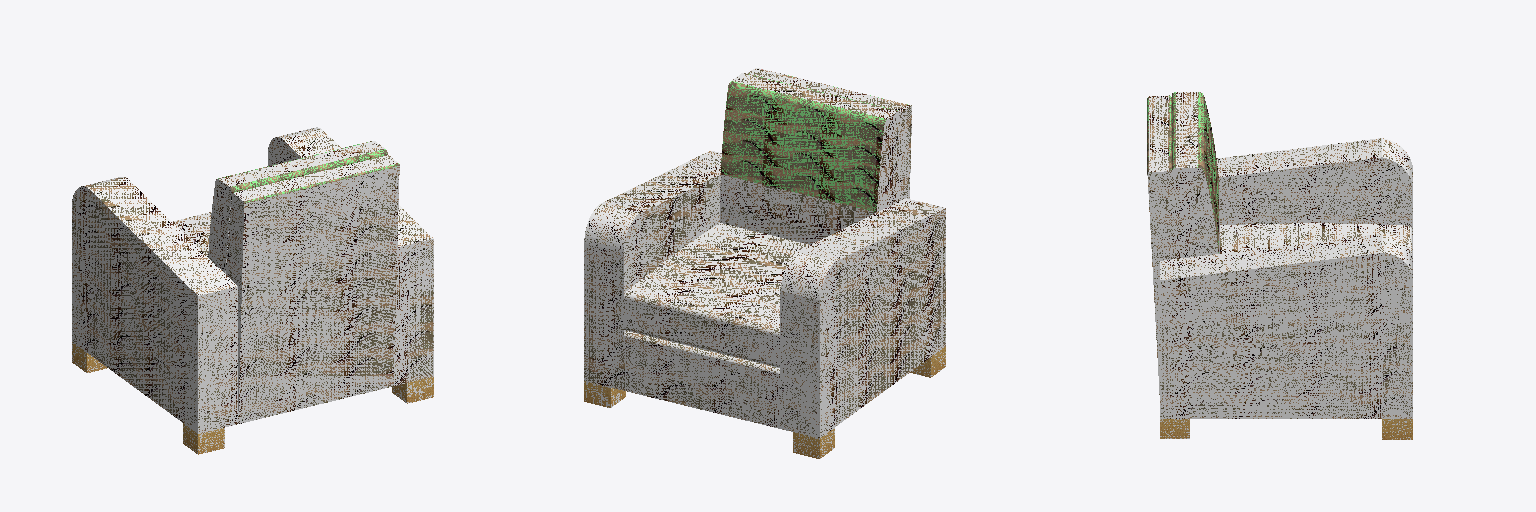
The picture shows the model from 3 angles: view 1: azimuth 30°, elevation 25°; view 2: azimuth 150°, elevation 25°; view 3: azimuth 270°, elevation 25°; orthographic projection.
Visible parts, largest first — view 1: mesh1_mesh1-geometry; view 2: mesh1_mesh1-geometry; view 3: mesh1_mesh1-geometry.
Part boxes in pixels (bbox=[...]): mesh1_mesh1-geometry: bbox=[72, 127, 433, 454]; mesh1_mesh1-geometry: bbox=[584, 68, 945, 458]; mesh1_mesh1-geometry: bbox=[1147, 92, 1412, 439].
Size of the model in its own units: 0.5785 by 0.5903 by 0.563.
Materials: 7 (2 with a texture image).